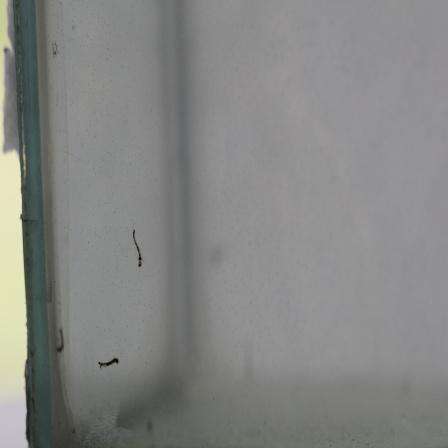Jentik-Nyamuk: (130, 226, 145, 270), (93, 352, 121, 372), (52, 324, 68, 357)
